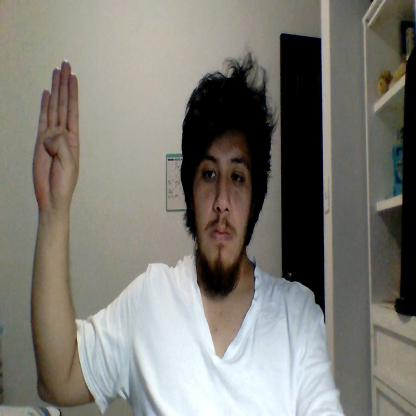B: (33, 61, 80, 207)
